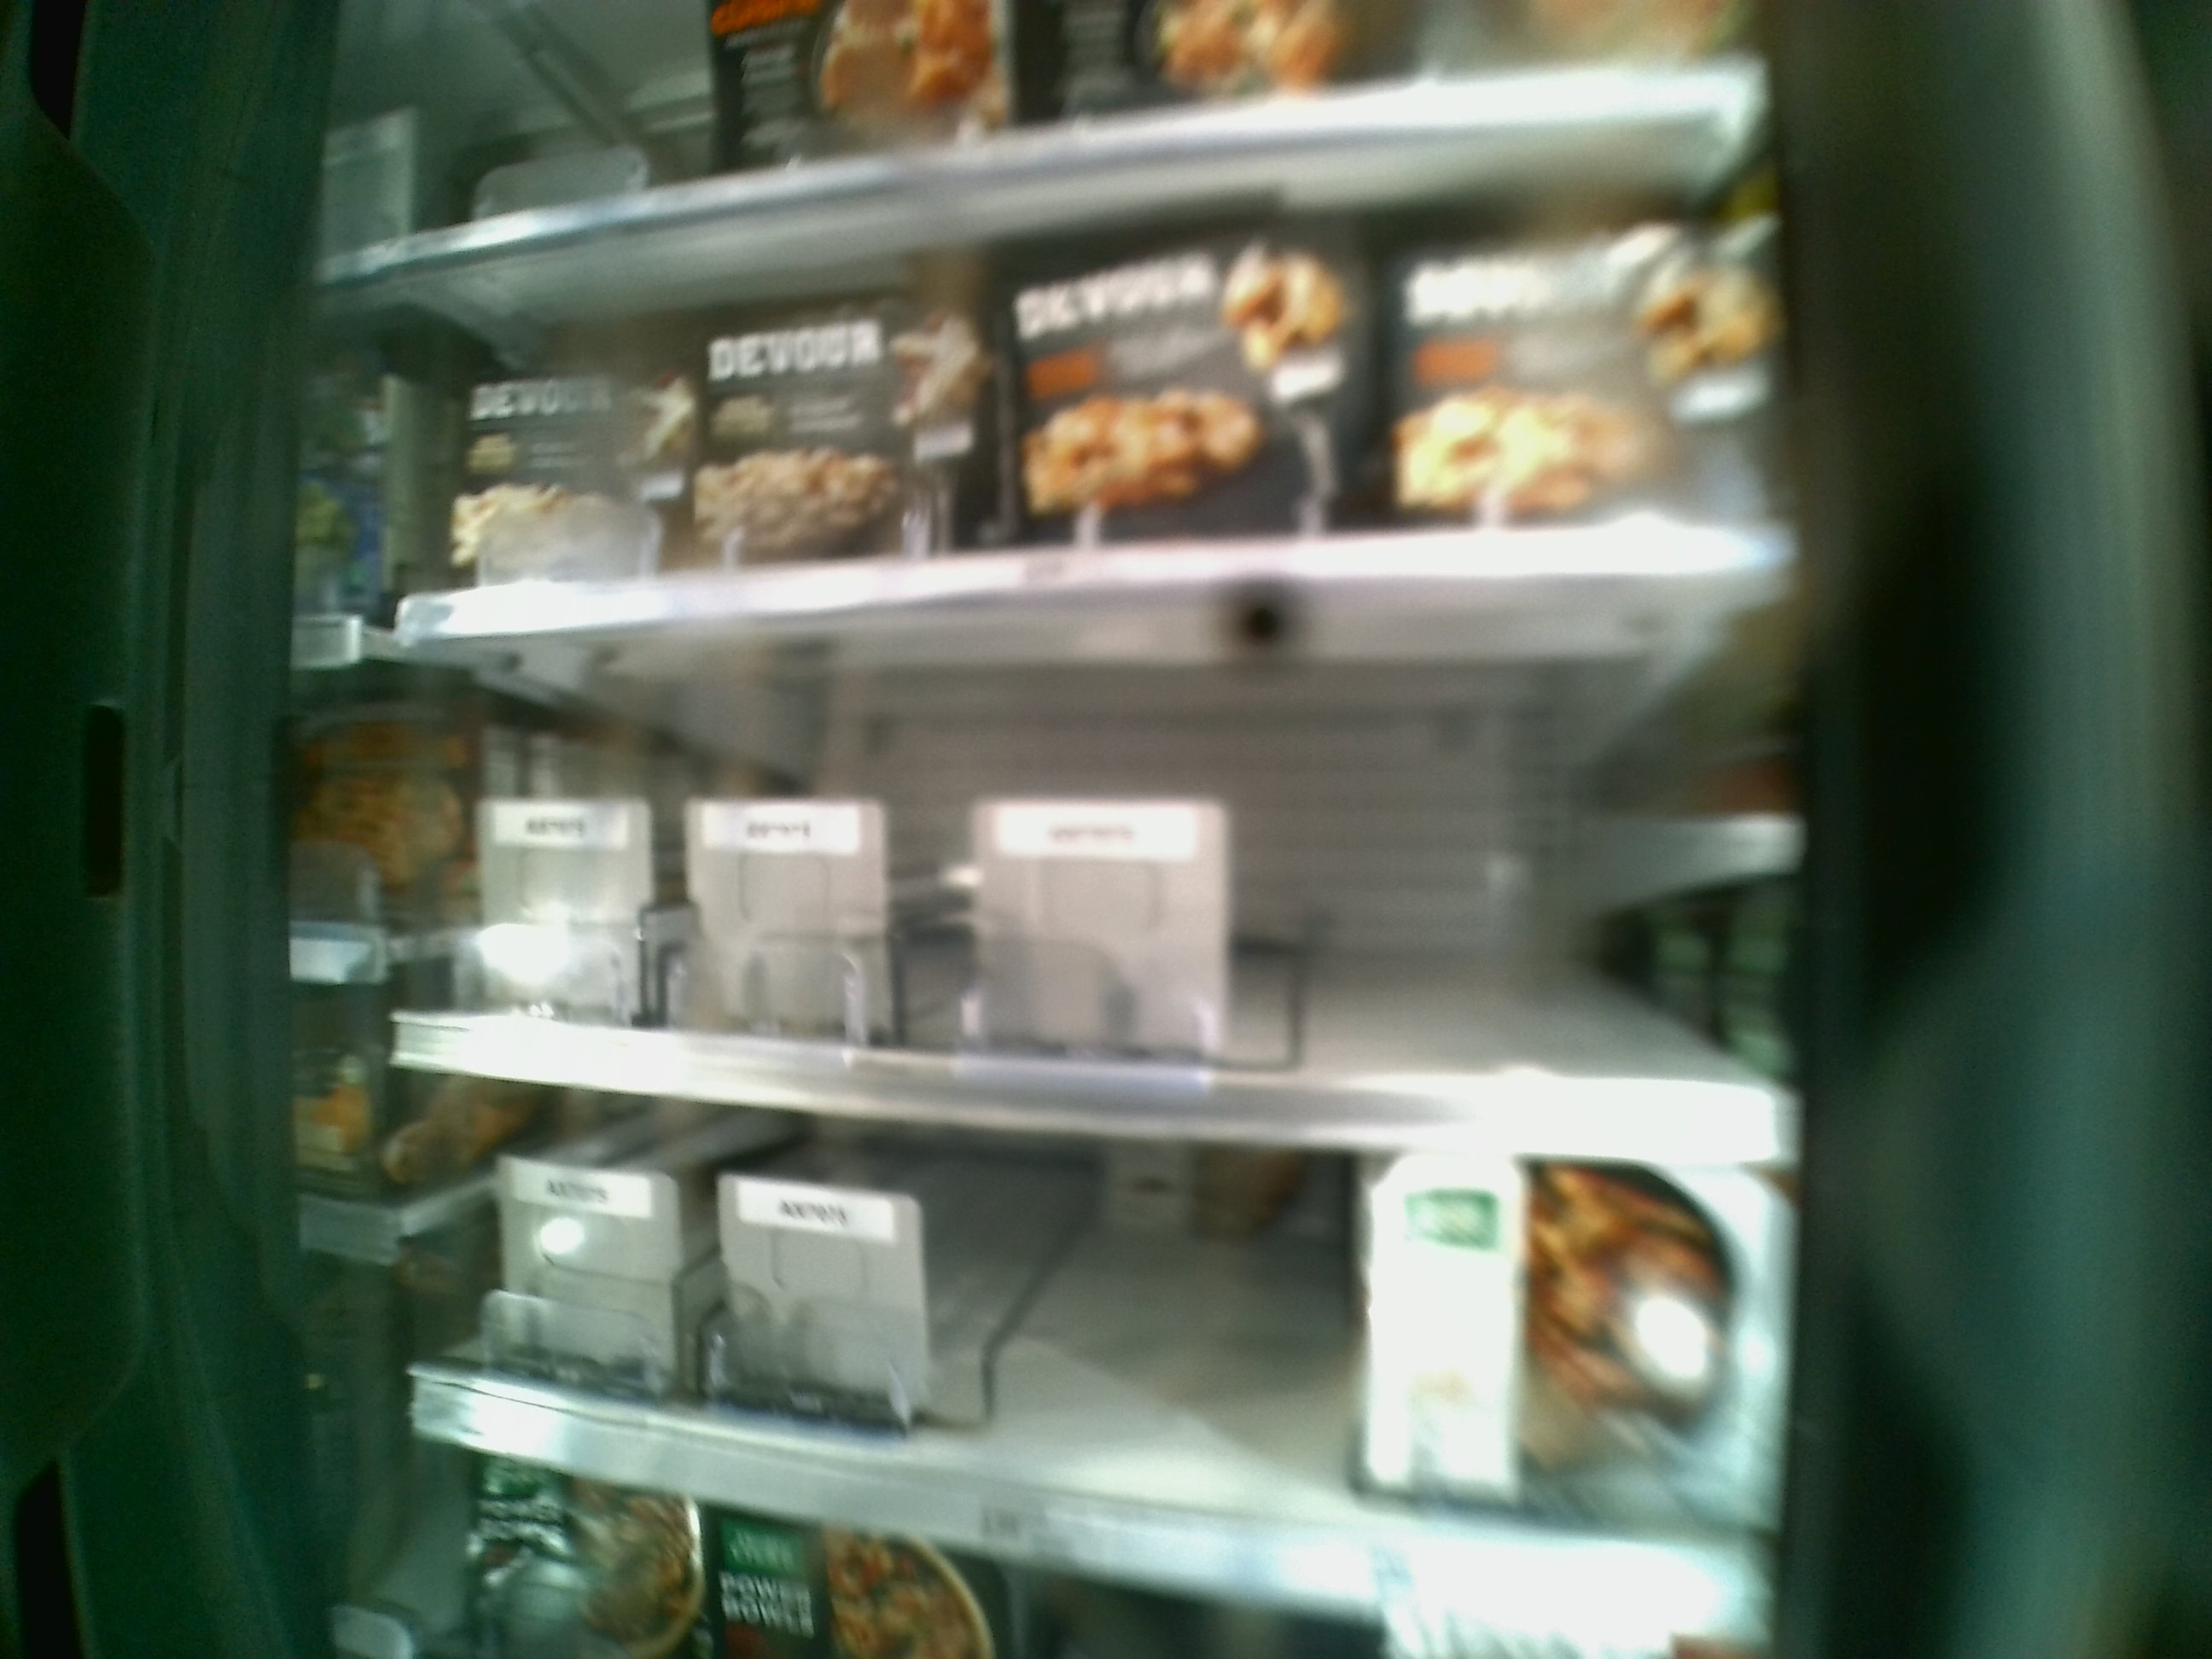shelf: (381, 580, 1801, 1162)
